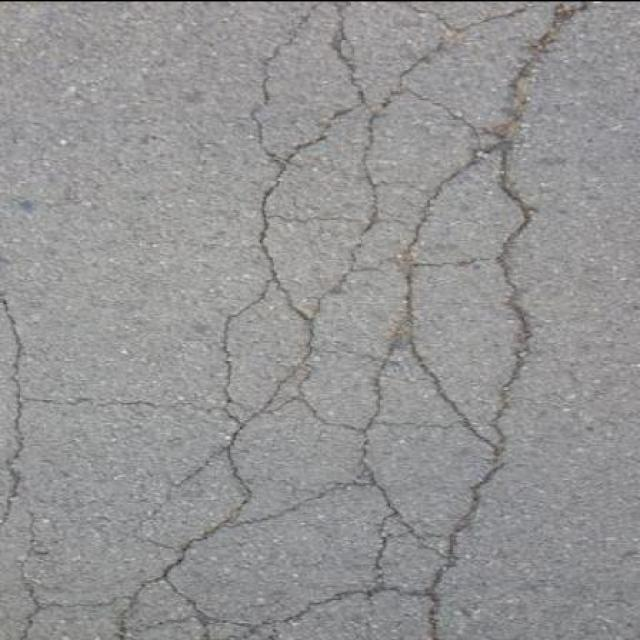Crack: (395, 2, 589, 418), (301, 0, 537, 319), (0, 298, 299, 539), (119, 462, 503, 640), (379, 252, 532, 459), (20, 510, 261, 639), (224, 215, 317, 412), (335, 420, 464, 559), (252, 2, 322, 164), (298, 362, 382, 430), (402, 88, 487, 148), (271, 141, 319, 189), (381, 520, 409, 558), (262, 502, 307, 519), (310, 348, 379, 359), (390, 250, 414, 279), (376, 219, 419, 234), (266, 215, 354, 222), (375, 179, 424, 190), (428, 188, 437, 191)
